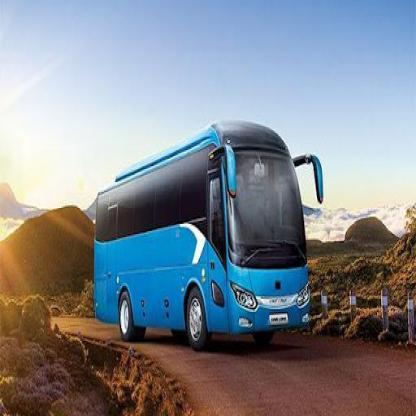Bus: (92, 116, 328, 364)
